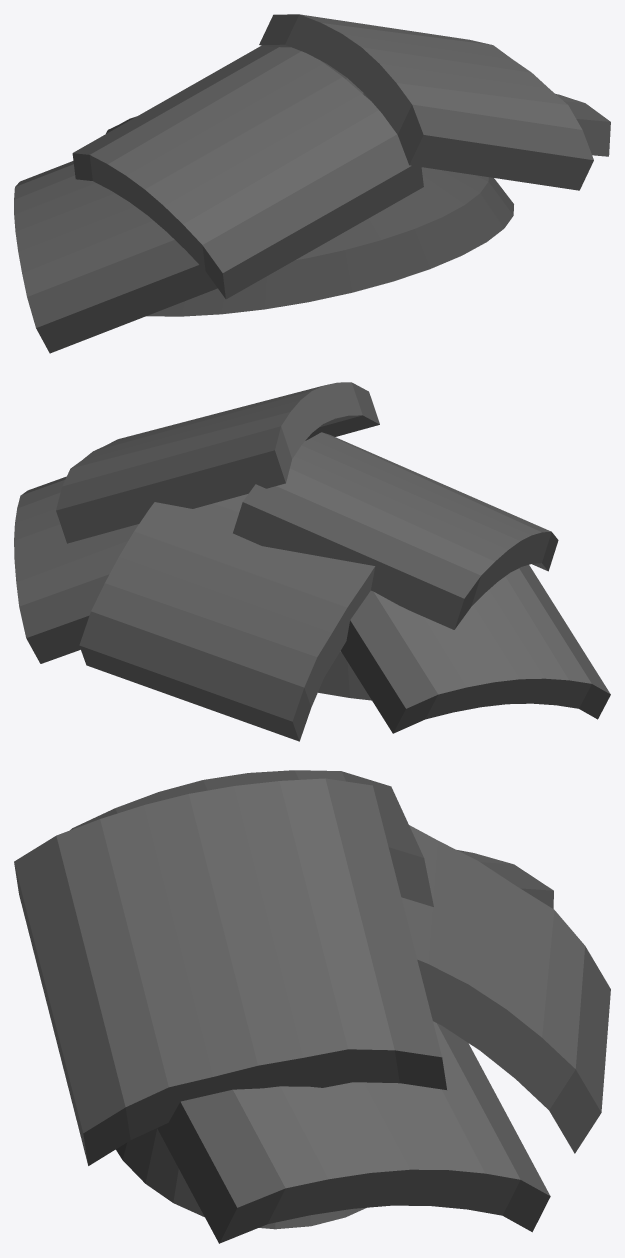
The model's file is gareki_2.fbx.
3 views of the same model, one above another, from view 1: azimuth 30°, elevation 25°; view 2: azimuth 150°, elevation 25°; view 3: azimuth 270°, elevation 25° (orthographic). The views are drawn at different scales.
Visible parts, largest first — view 1: 立方体.005; view 2: 立方体.005; view 3: 立方体.005.
Part boxes in pixels (box(x1,y1,x2,y2)): 立方体.005: box(14, 14, 610, 353); 立方体.005: box(14, 382, 610, 741); 立方体.005: box(14, 770, 610, 1243).
Bounding box in the file's own units: 124 × 50.73 × 75.25.
